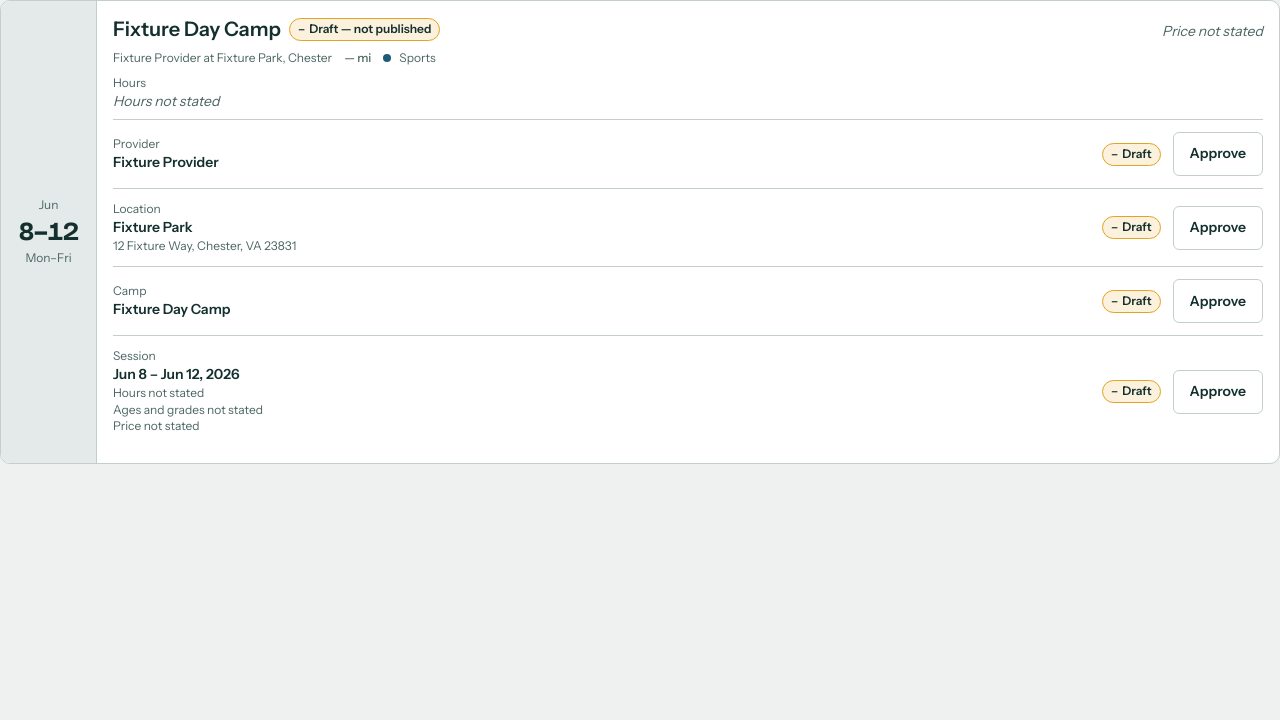
Test: approving › clears the message when the next attempt starts
The width and height of the screenshot is (1280, 720).
Click the button with aria-label "Approve camp: Fixture Day Camp" at point(1218, 301), box [1172,279,1263,323]
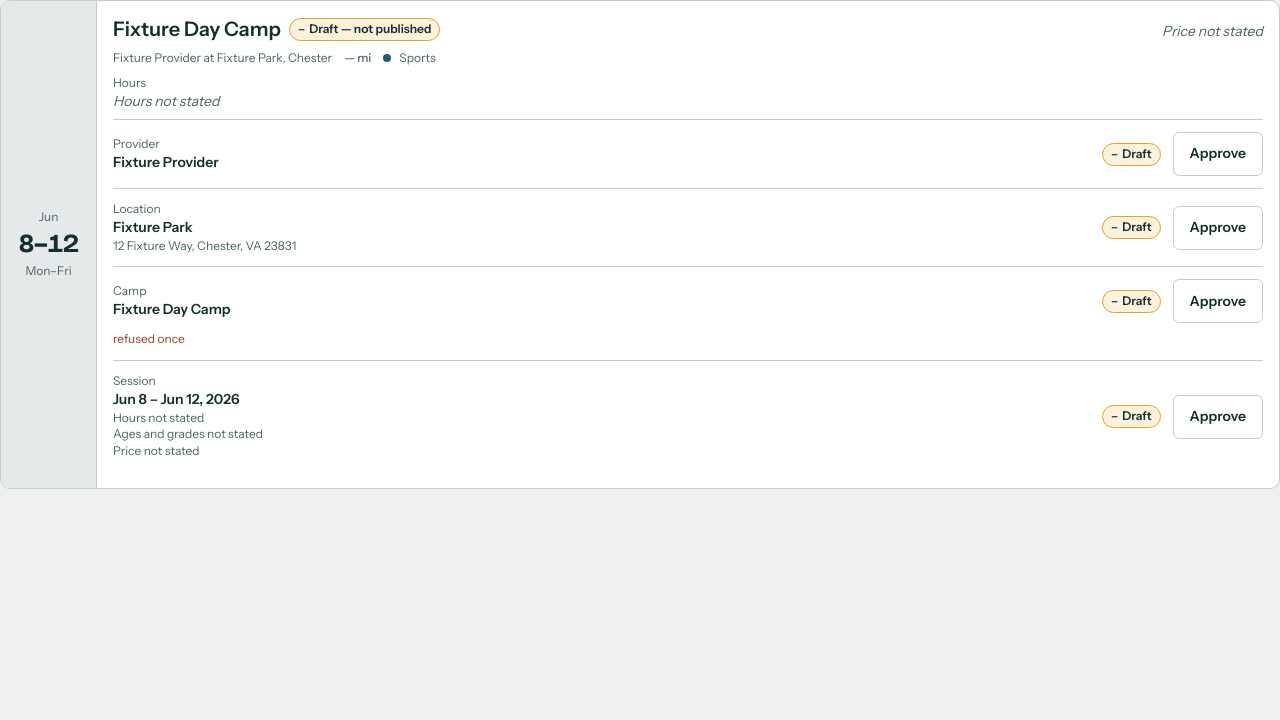
expect the message reads "refused once": met, box [113,331,185,346]
Click the button with aria-label "Approve camp: Fixture Day Camp" at point(1218, 301), box [1172,279,1263,323]
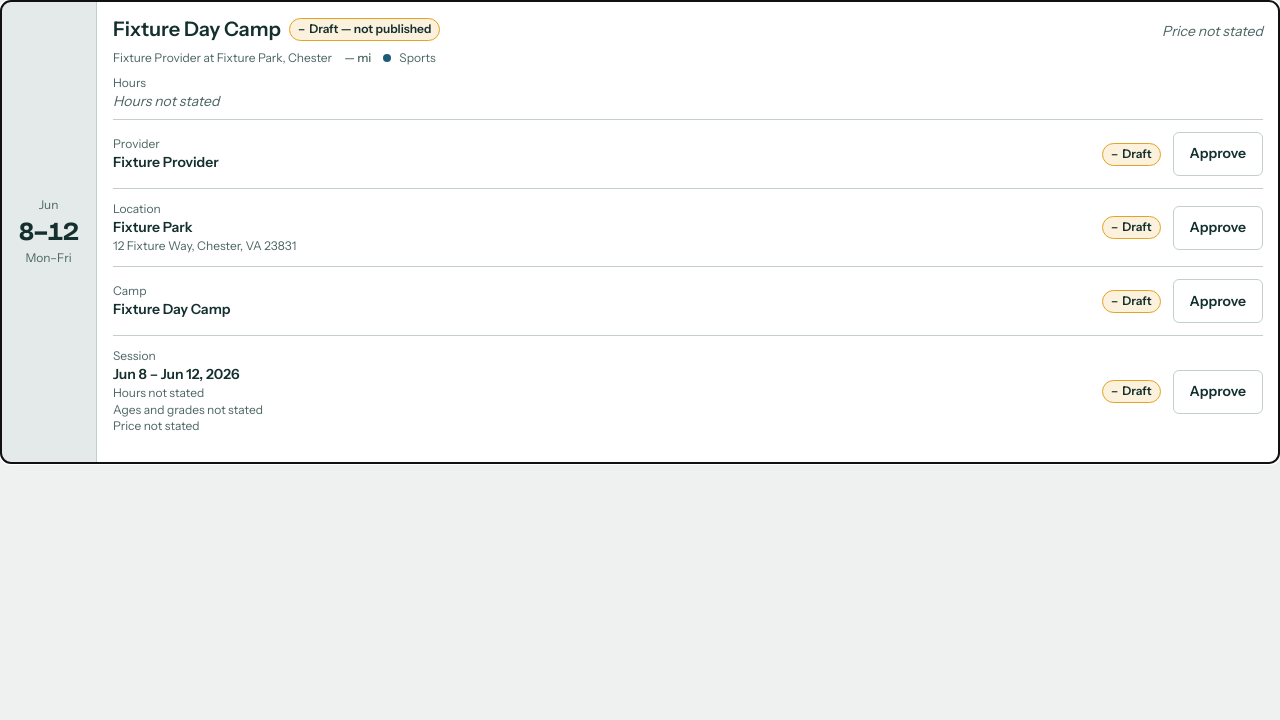
expect the message "refused once" is gone: met
